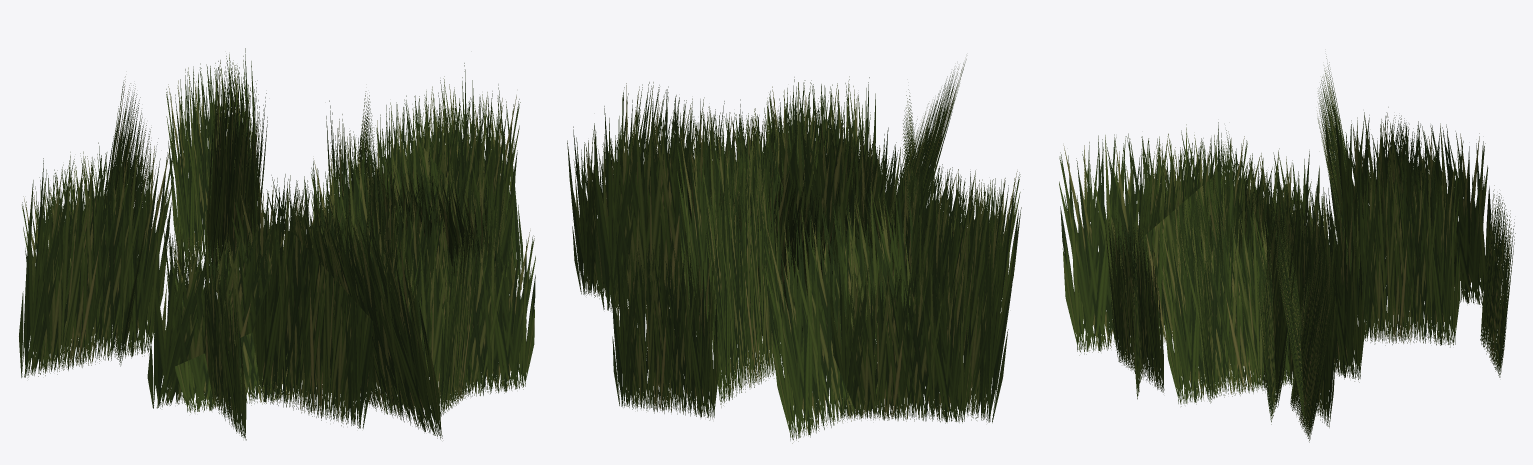
File: GrassTuft_A.fbx
The picture shows the model from 3 angles, left to right: view 1: azimuth 30°, elevation 25°; view 2: azimuth 150°, elevation 25°; view 3: azimuth 270°, elevation 25°; orthographic projection. The views are drawn at different scales.
Parts seen in each view (by area): view 1: GrassTuft_A; view 2: GrassTuft_A; view 3: GrassTuft_A.
Part boxes in pixels (<box>): GrassTuft_A: <box>19,48,535,440</box>; GrassTuft_A: <box>567,59,1021,443</box>; GrassTuft_A: <box>1059,56,1515,442</box>.
Bounding box in the file's own units: 0.7484 × 0.4065 × 0.727.
